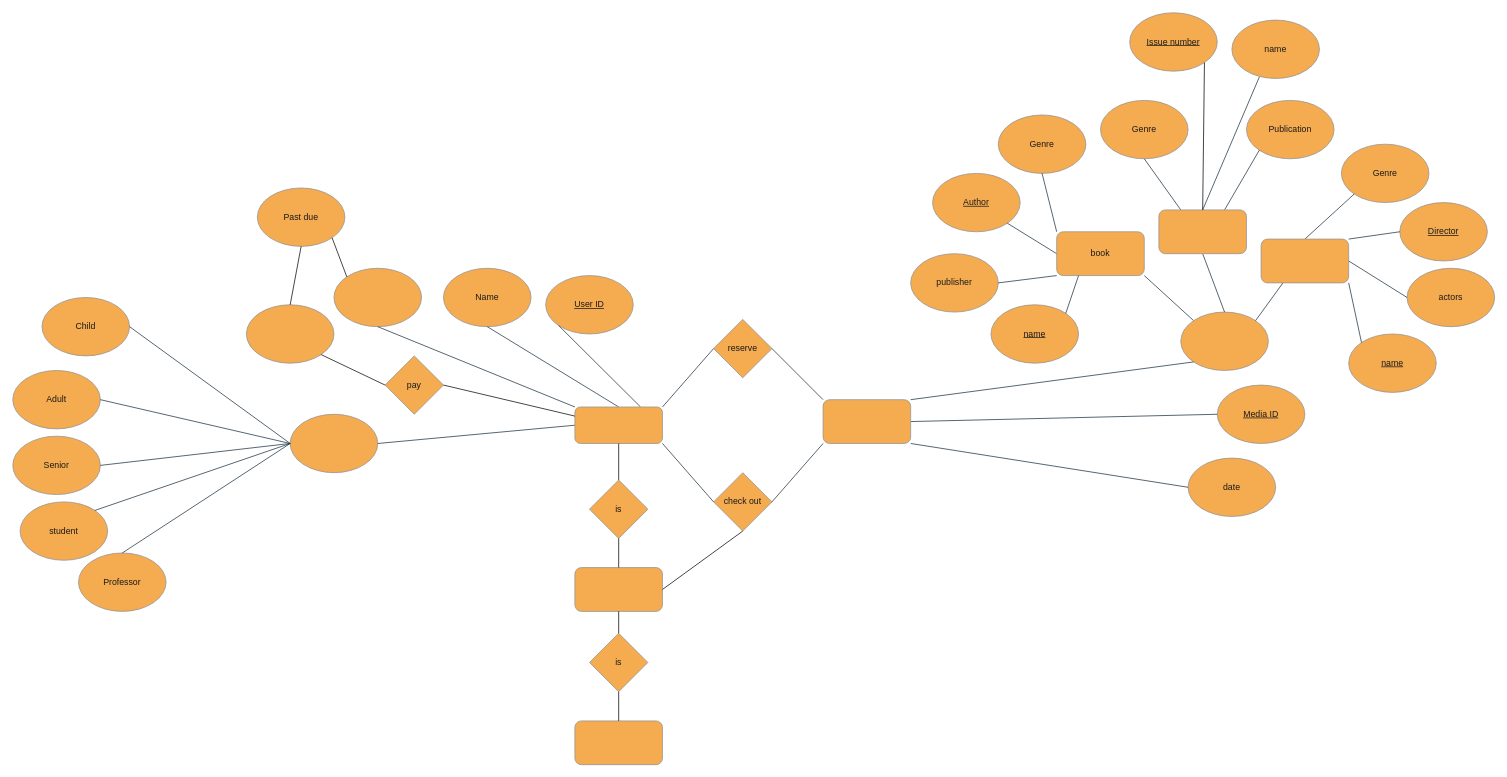
Some shapes in this 1507 by 777 pixel diagram are drawn without their labels. The shapes that lost their labels are listed below. From the top down, each one's centre as x and y in pixels, then its label:
At point 1202,231: "magazine".
At point 1304,260: "movie".
At point 377,297: "Checked Out".
At point 290,333: "Fees".
At point 1224,340: "Type".
At point 618,424: "User".
At point 866,421: "media".
At point 333,443: "Role".
At point 618,589: "staff".
At point 618,742: "admin".
